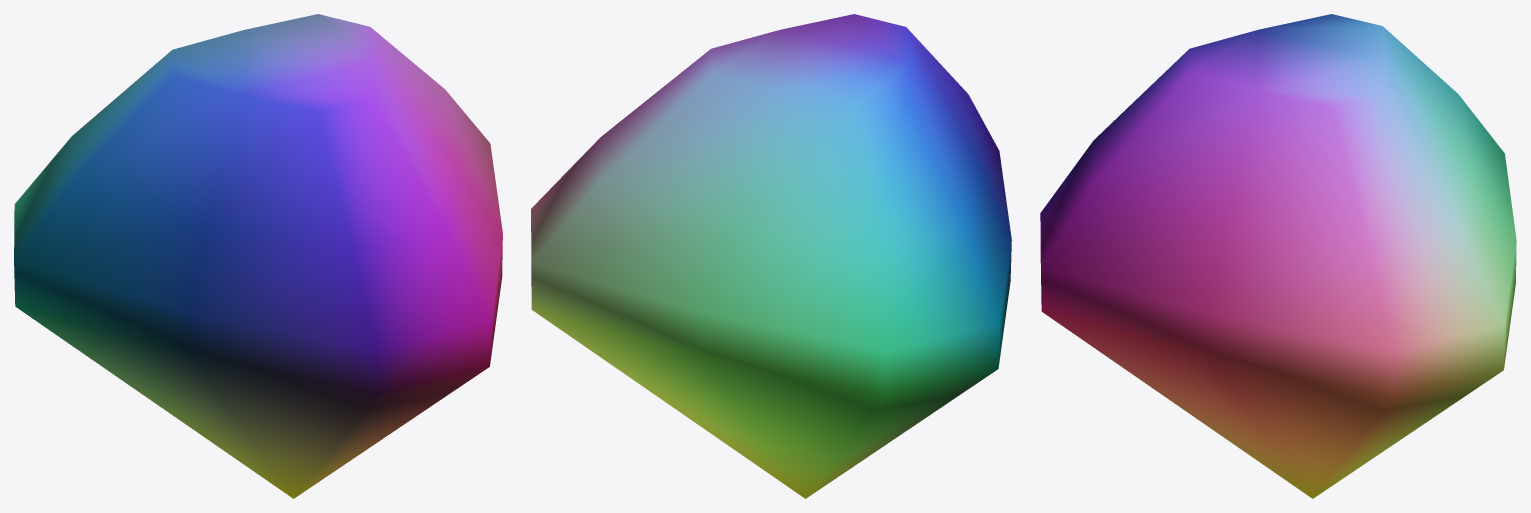
Rendered from SM_Pickup_Gem_Topaz_3.fbx.
3 renders of one model, left to right at view 1: azimuth 30°, elevation 25°; view 2: azimuth 150°, elevation 25°; view 3: azimuth 270°, elevation 25°, orthographic. The views are drawn at different scales.
Visible parts, largest first — view 1: SM_Pickup_Gem_Topaz_3; view 2: SM_Pickup_Gem_Topaz_3; view 3: SM_Pickup_Gem_Topaz_3.
Boxes of the visible parts, <box> form: SM_Pickup_Gem_Topaz_3: <box>14,14,502,498</box>; SM_Pickup_Gem_Topaz_3: <box>531,14,1011,498</box>; SM_Pickup_Gem_Topaz_3: <box>1040,14,1516,498</box>.
Size of the model in its own units: 0.2058 by 0.1835 by 0.1829.
